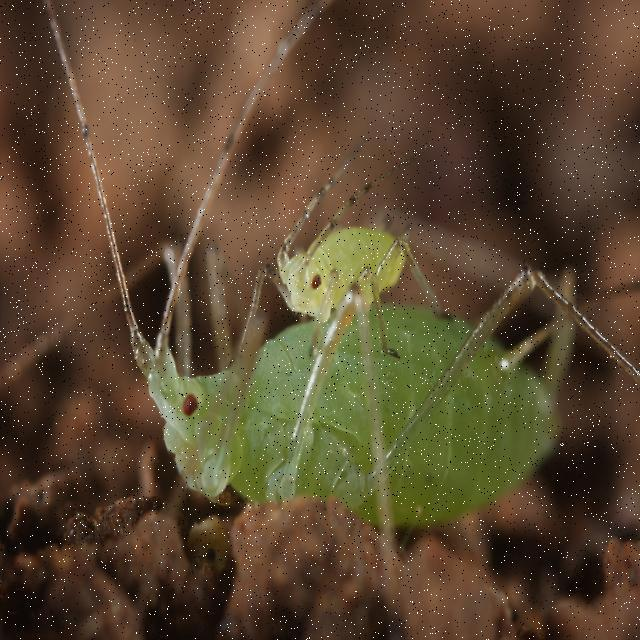Aphids: (110, 294, 581, 548), (238, 164, 442, 349)
